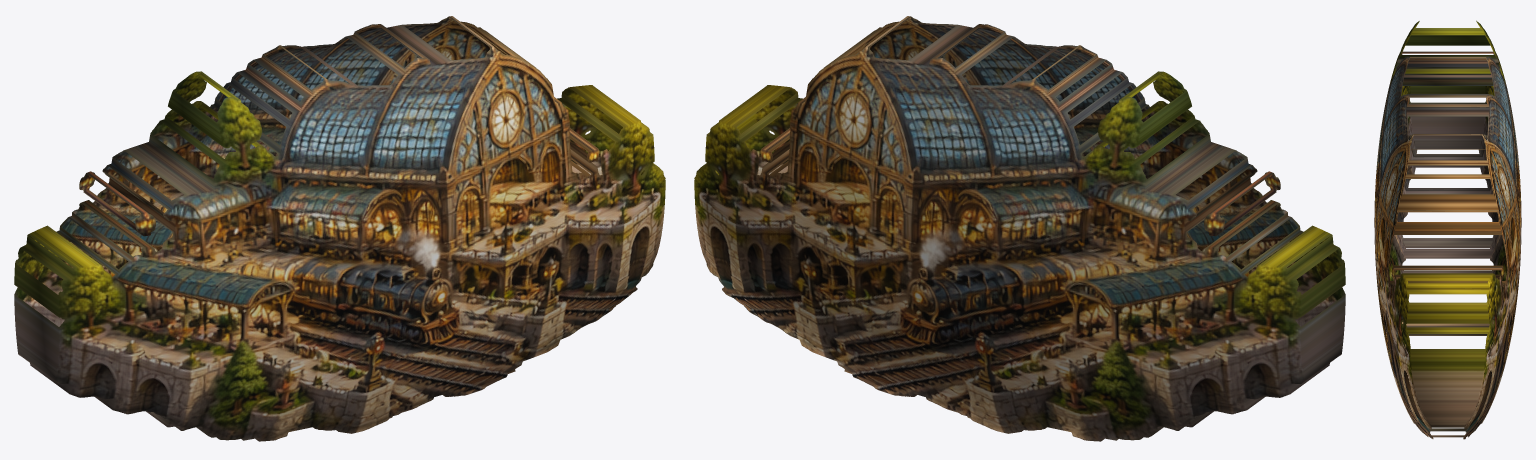
3 renders of one model, left to right at view 1: azimuth 30°, elevation 25°; view 2: azimuth 150°, elevation 25°; view 3: azimuth 270°, elevation 25°, orthographic. The views are drawn at different scales.
Visible parts, largest first — view 1: civilizations:7; view 2: civilizations:7; view 3: civilizations:7.
Boxes of the visible parts, x1,y1,x2,y2 form: civilizations:7: (14, 16, 665, 441); civilizations:7: (694, 16, 1345, 441); civilizations:7: (1374, 20, 1521, 439).
Size of the model in its own units: 1.66 by 0.9444 by 0.42.
Materials: 1 (1 with a texture image).
